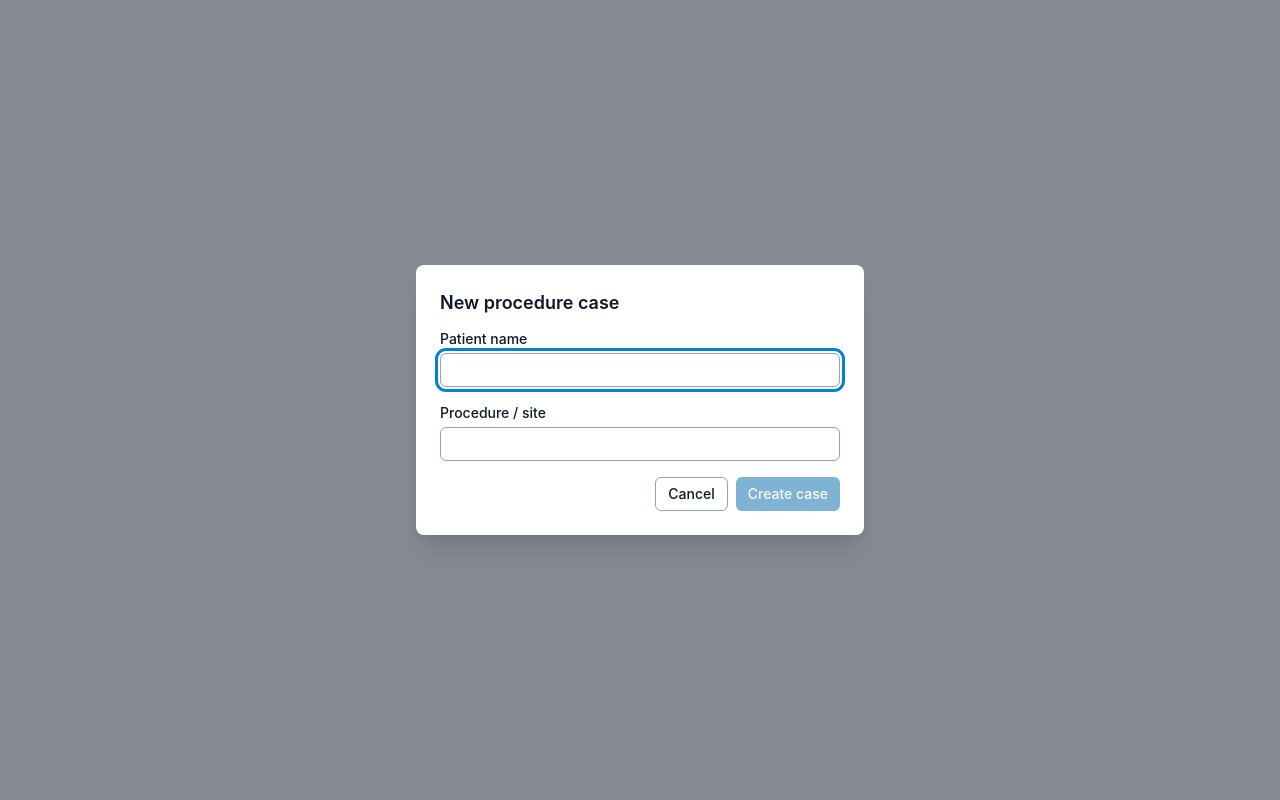
NewCaseDialog › suggests existing patients with their notes
This screenshot has width=1280, height=800.
Type "bo" into the field labelled "Patient name" at (640, 370), box left=440, top=353, right=840, bottom=387
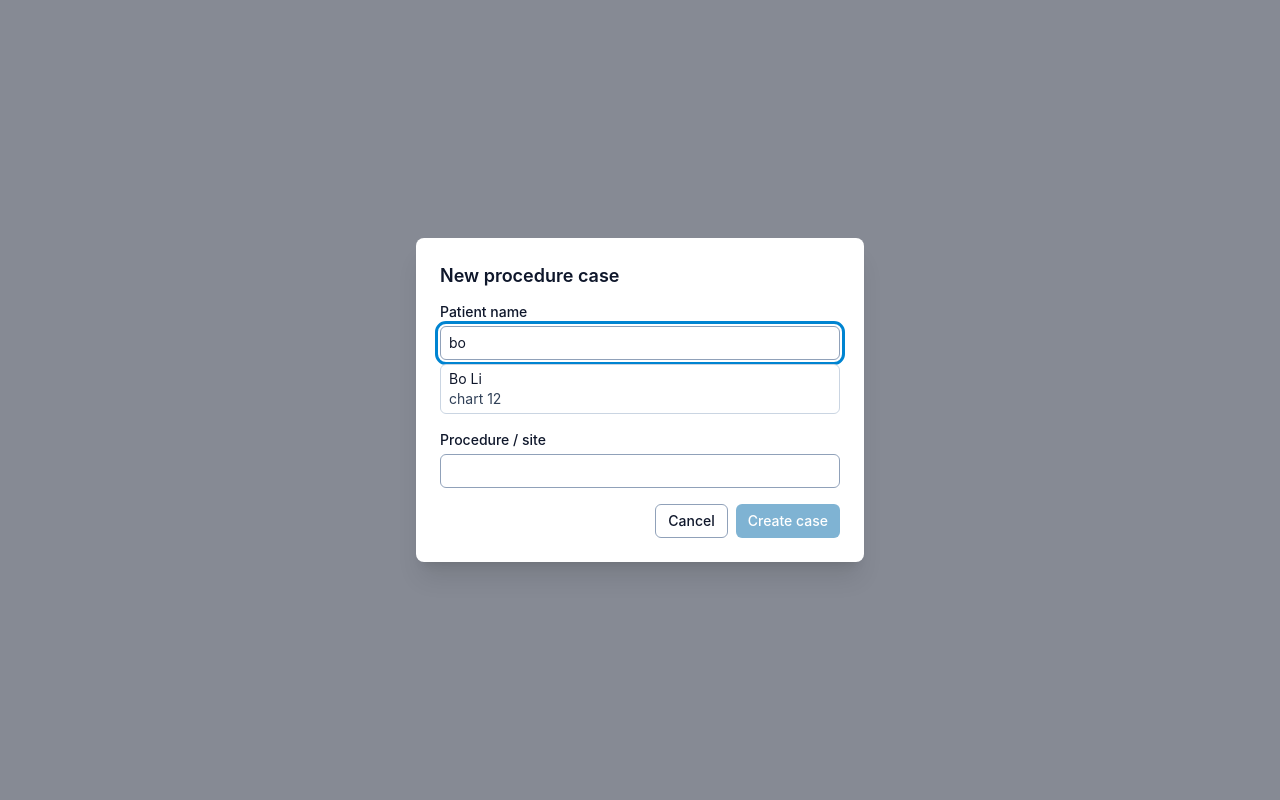
expect the text "Bo Li" is shown: met, box left=449, top=370, right=482, bottom=387
expect the text "chart 12" is shown: met, box left=449, top=390, right=501, bottom=407
